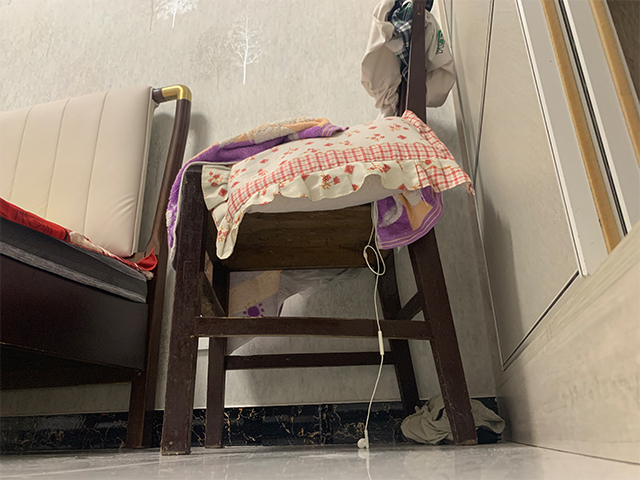bed: (1, 83, 192, 451)
cabinet: (440, 1, 640, 462)
stool: (160, 1, 480, 446)
wire: (357, 229, 386, 449)
